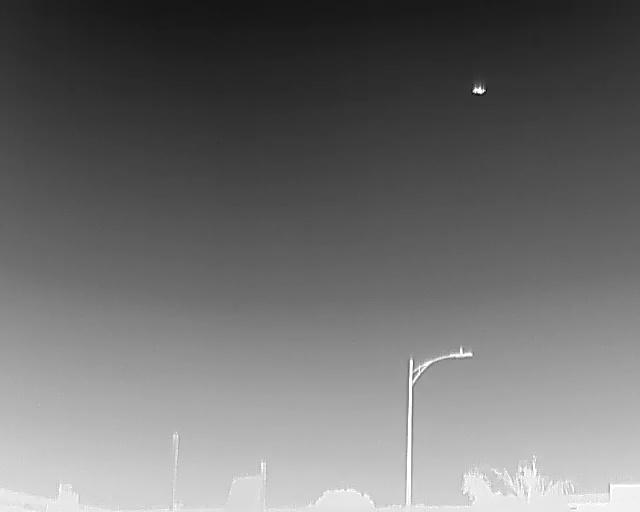fpv-drone: (471, 81, 486, 95)
